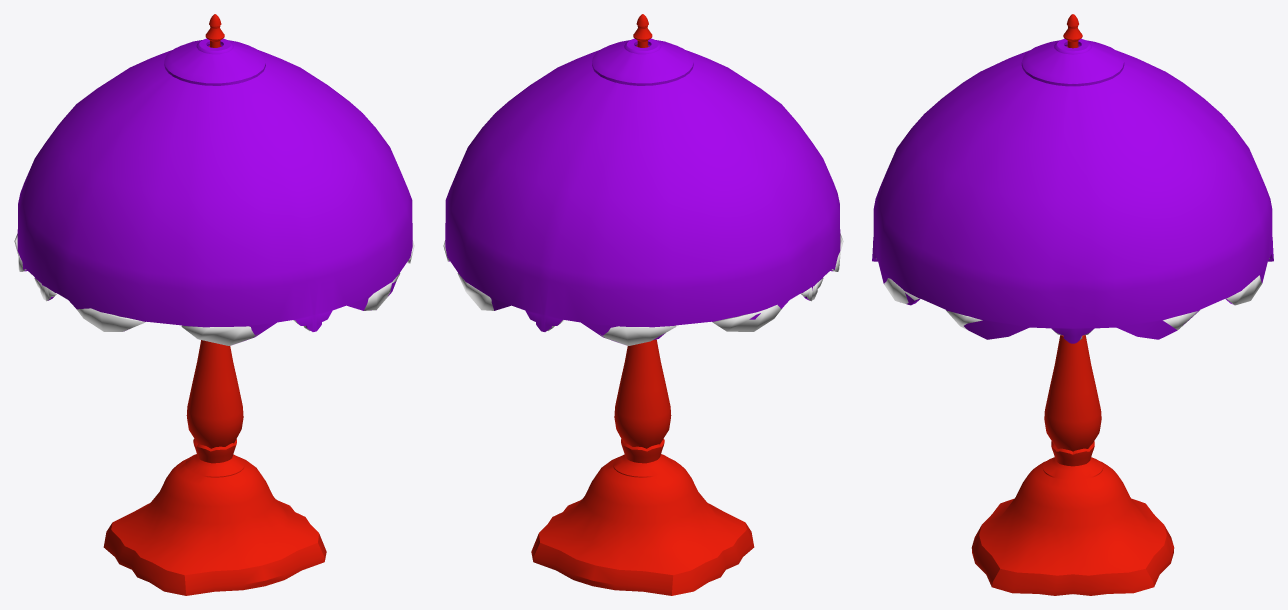
File: Lamp 1.fbx
3 views of the same model, side by side, from view 1: azimuth 30°, elevation 25°; view 2: azimuth 150°, elevation 25°; view 3: azimuth 270°, elevation 25° (orthographic).
Parts seen in each view (by area): view 1: BulbHolder.low, Wings and Heads Backup.001; view 2: BulbHolder.low, Wings and Heads Backup.001; view 3: BulbHolder.low, Wings and Heads Backup.001.
Part boxes in pixels (box(x1,y1,x2,y2)): BulbHolder.low: box(17, 14, 412, 595); Wings and Heads Backup.001: box(14, 233, 414, 345); BulbHolder.low: box(445, 14, 840, 595); Wings and Heads Backup.001: box(443, 233, 843, 345); BulbHolder.low: box(872, 14, 1273, 595); Wings and Heads Backup.001: box(876, 258, 1269, 340).
Size of the model in its own units: 318 by 472 by 319.
